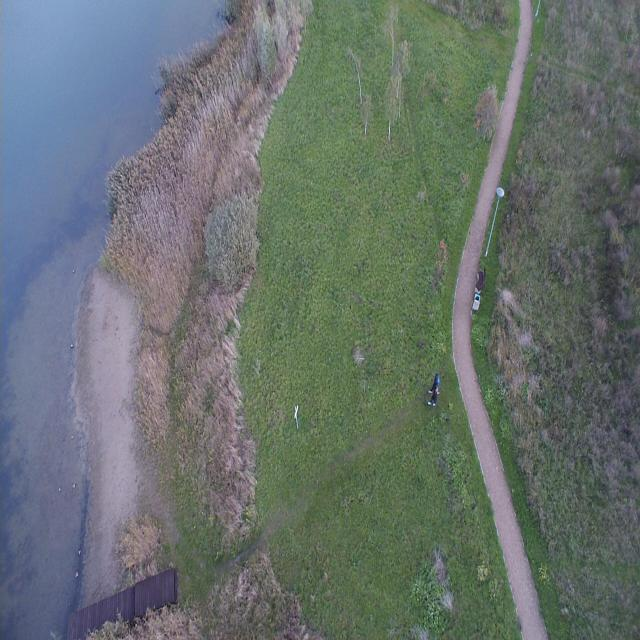p3rson: (428, 372, 440, 394), (428, 386, 438, 406)
